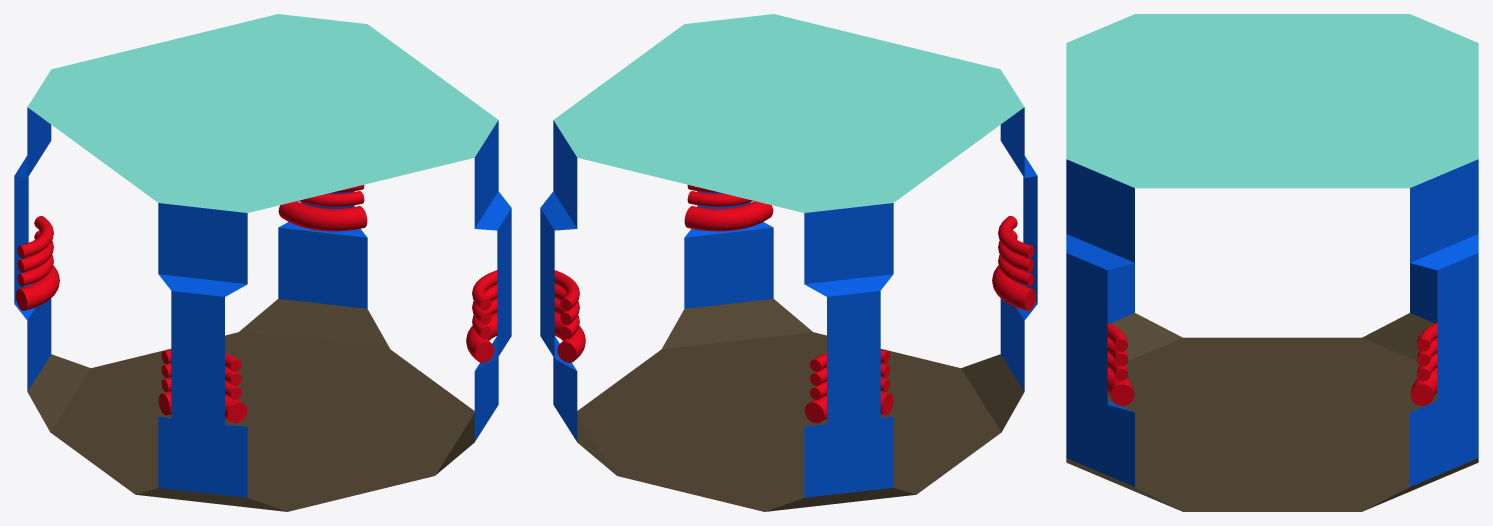
Rendered from Cross_Roads.fbx.
3 views of the same model, side by side, from view 1: azimuth 30°, elevation 25°; view 2: azimuth 150°, elevation 25°; view 3: azimuth 270°, elevation 25° (orthographic). The views are drawn at different scales.
Parts seen in each view (by area): view 1: Cross_Roads, Cylinder.007; view 2: Cross_Roads, Cylinder.007; view 3: Cross_Roads, Cylinder.007.
Boxes of the visible parts, box(x1,y1,x2,y2) form: Cross_Roads: box(14, 14, 511, 511); Cylinder.007: box(16, 185, 497, 423); Cross_Roads: box(540, 14, 1037, 511); Cylinder.007: box(554, 185, 1035, 423); Cross_Roads: box(1066, 14, 1478, 511); Cylinder.007: box(1107, 323, 1437, 405).
Size of the model in its own units: 300 by 260 by 300.
